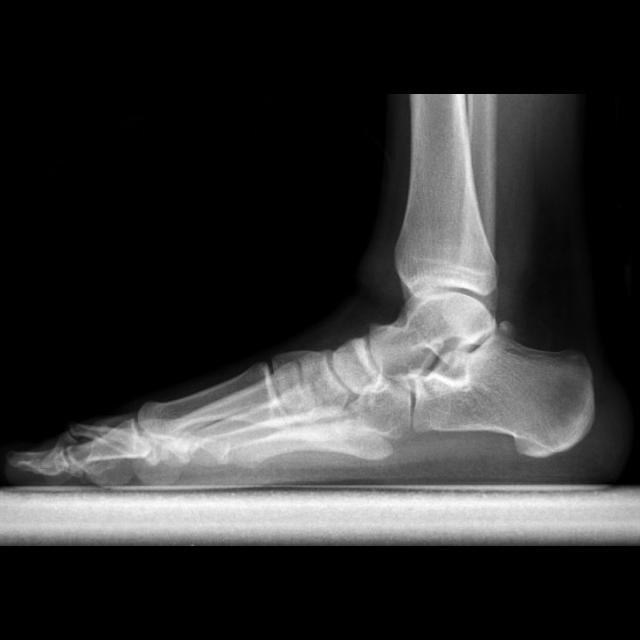a: (413, 332, 594, 458)
b: (331, 336, 383, 392)
c: (138, 359, 292, 449)
